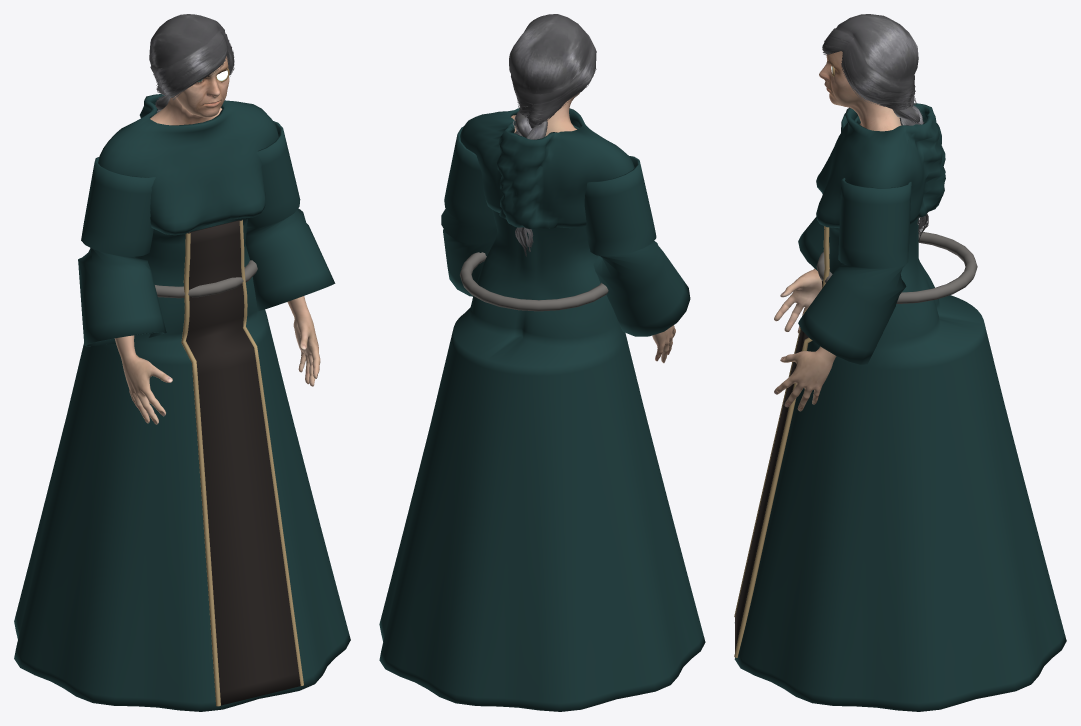
File: crew_chief_librarian.glb
The picture shows the model from 3 angles, left to right: view 1: azimuth 30°, elevation 25°; view 2: azimuth 150°, elevation 25°; view 3: azimuth 270°, elevation 25°; orthographic projection. The views are drawn at different scales.
Visible parts, largest first — view 1: robe, tabard, mantle, sleeve.001, sleeve, Human, Human.braid01, tabard_edge, tabard_edge.001, belt; view 2: robe, mantle, sleeve.001, Human.braid01, sleeve, belt, Human; view 3: robe, sleeve, mantle, Human.braid01, Human, belt, tabard, tabard_edge.001, sleeve.001.
Part boxes in pixels (x1,y1,x2,y2): robe: [14, 218, 350, 711]; tabard: [186, 220, 300, 705]; mantle: [98, 94, 278, 235]; sleeve.001: [78, 157, 166, 346]; sleeve: [245, 121, 335, 311]; Human: [114, 56, 320, 424]; Human.braid01: [149, 14, 234, 112]; tabard_edge: [181, 232, 220, 706]; tabard_edge.001: [239, 219, 303, 685]; belt: [155, 260, 257, 298]; robe: [379, 125, 705, 711]; mantle: [460, 108, 634, 229]; sleeve.001: [584, 156, 690, 336]; Human.braid01: [509, 14, 596, 256]; sleeve: [441, 126, 496, 296]; belt: [460, 252, 608, 311]; Human: [511, 93, 675, 363]; robe: [734, 116, 1066, 711]; sleeve: [798, 177, 911, 364]; mantle: [816, 103, 945, 228]; Human.braid01: [822, 14, 928, 240]; Human: [774, 51, 901, 411]; belt: [816, 231, 977, 303]; tabard: [735, 281, 822, 651]; tabard_edge.001: [734, 226, 829, 657]; sleeve.001: [798, 113, 847, 270].
Bounding box in the file's own units: 0.7734 × 1.61 × 0.7661.
Materials: 11 (5 with a texture image).
